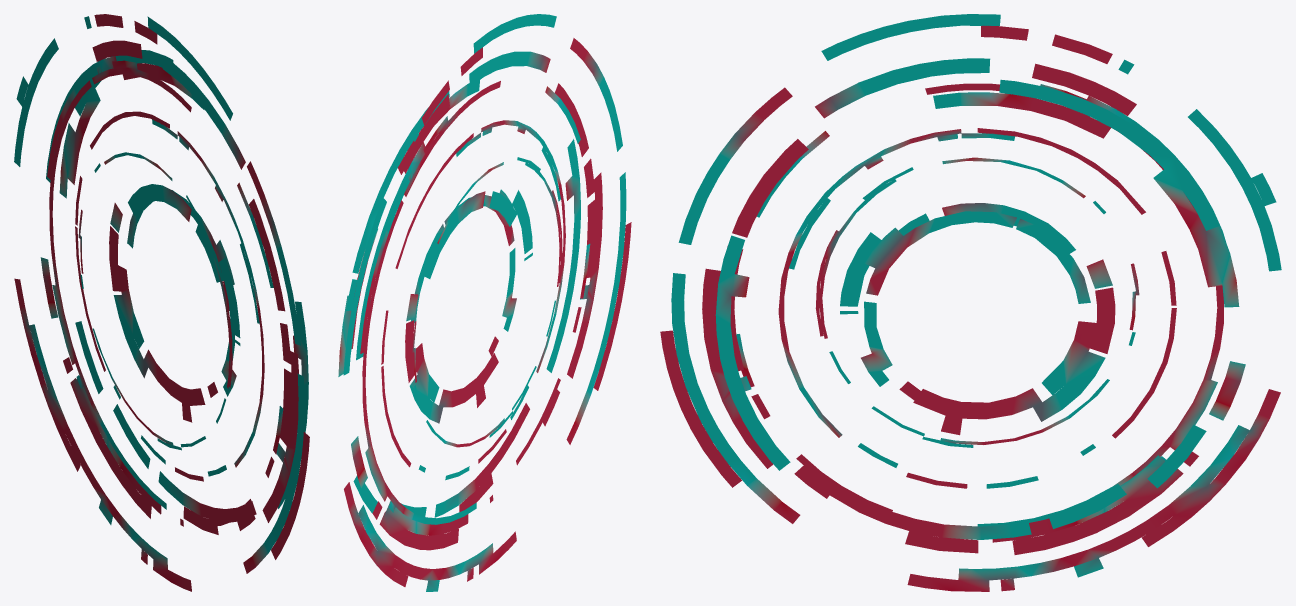
The model's file is Worldiconeffect_mesh.fbx.
3 views of the same model, side by side, from view 1: azimuth 30°, elevation 25°; view 2: azimuth 150°, elevation 25°; view 3: azimuth 270°, elevation 25° (orthographic). The views are drawn at different scales.
Visible parts, largest first — view 1: STATIC_MESH; view 2: STATIC_MESH; view 3: STATIC_MESH.
Boxes of the visible parts, box(x1,y1,x2,y2) form: STATIC_MESH: box(14, 14, 309, 591); STATIC_MESH: box(338, 14, 631, 591); STATIC_MESH: box(660, 14, 1281, 591).
Bounding box in the file's own units: 1.08 × 19.89 × 19.38.
